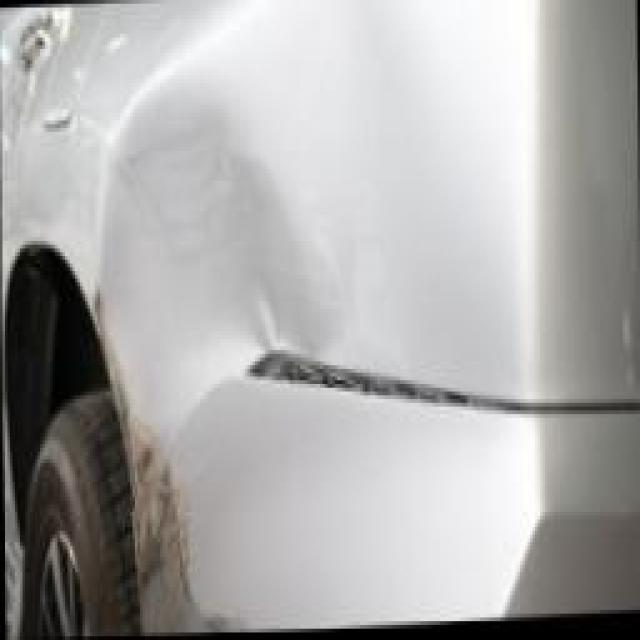Bumper: (145, 440, 211, 638)
Fender: (82, 53, 297, 472)
